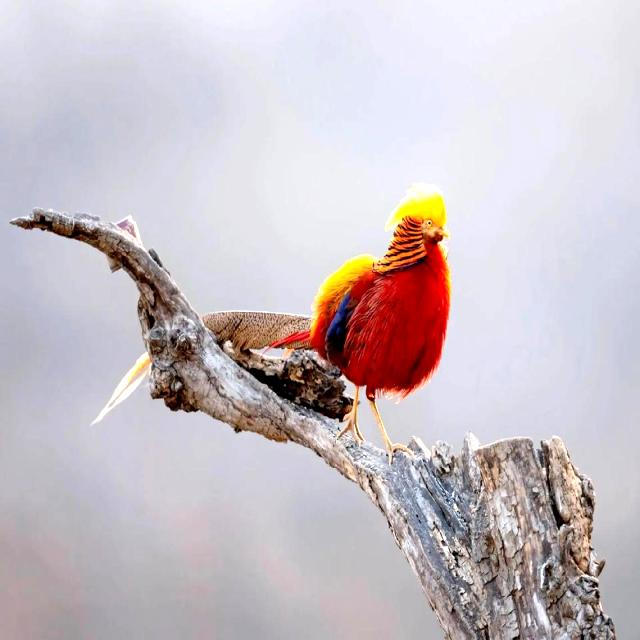Chrysolophus pictus feather: (90, 311, 315, 426)
